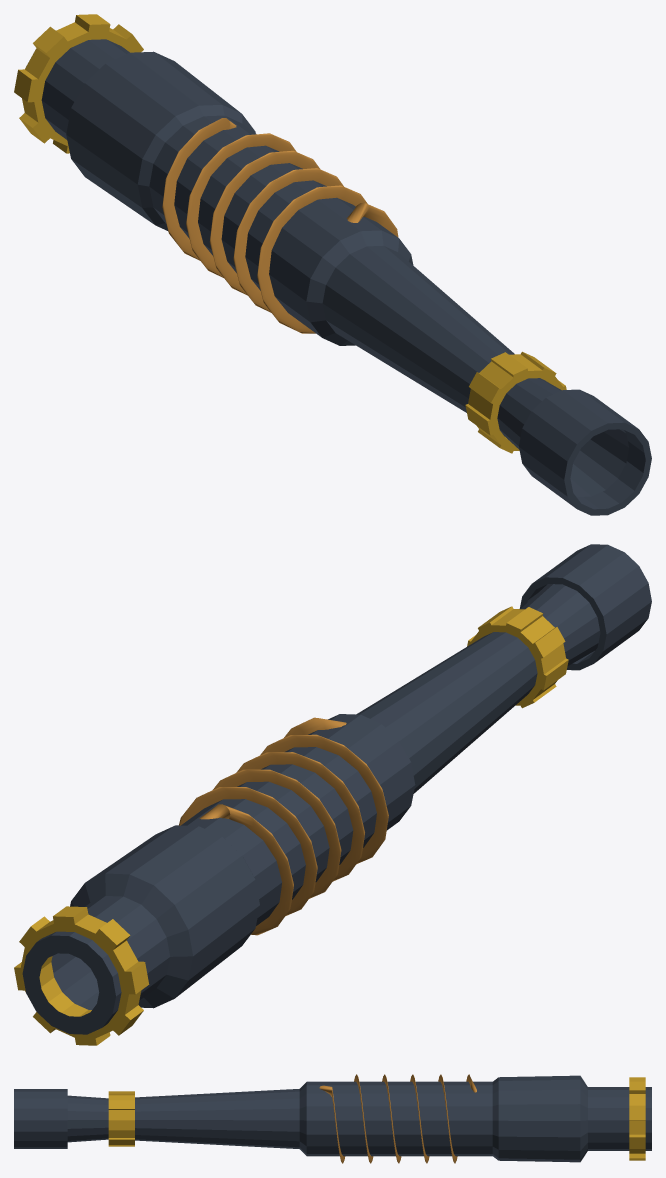
File: precision_barrel.glb
3 views of the same model, one above another, from view 1: azimuth 30°, elevation 25°; view 2: azimuth 150°, elevation 25°; view 3: azimuth 270°, elevation 25° (orthographic). The views are drawn at different scales.
Parts seen in each view (by area): view 1: Circle.001; view 2: Circle.001; view 3: Circle.001.
Boxes of the visible parts, x1,y1,x2,y2 form: Circle.001: (14, 14, 651, 515); Circle.001: (14, 544, 651, 1045); Circle.001: (14, 1074, 651, 1163).
Bounding box in the file's own units: 0.0706 × 0.0706 × 0.5.
